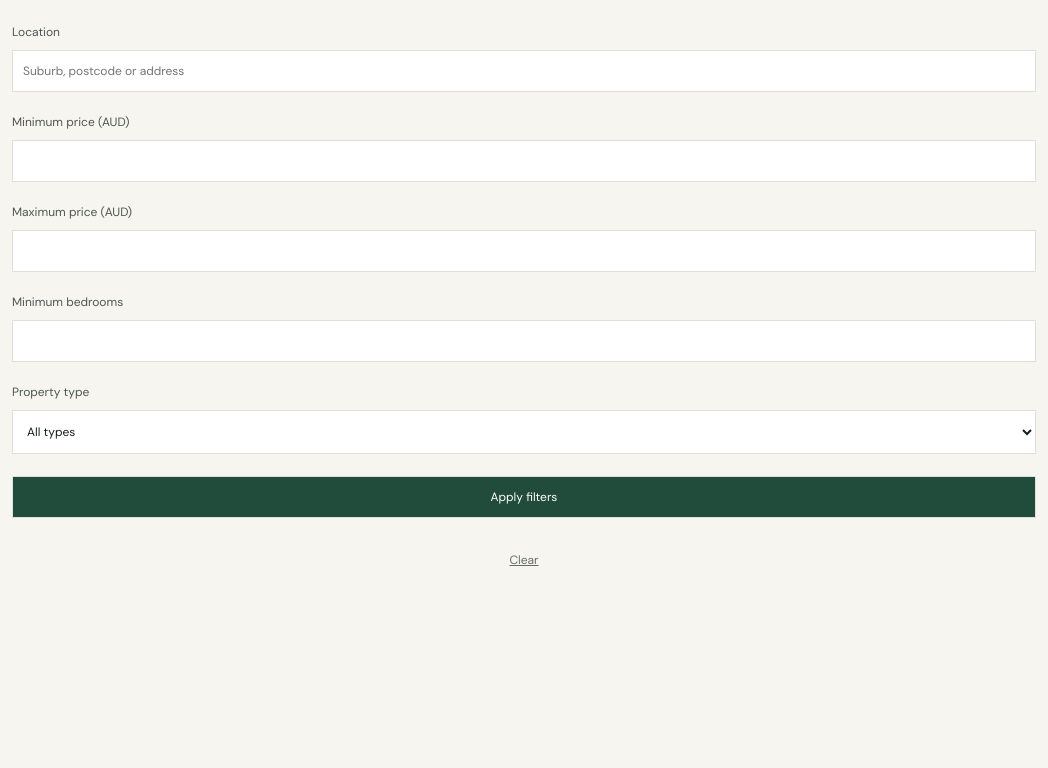
Test: applies inclusive inputs and clears them explicitly
In the field labelled "Location": (524, 71) [12, 50, 1036, 92], type "Richmond"
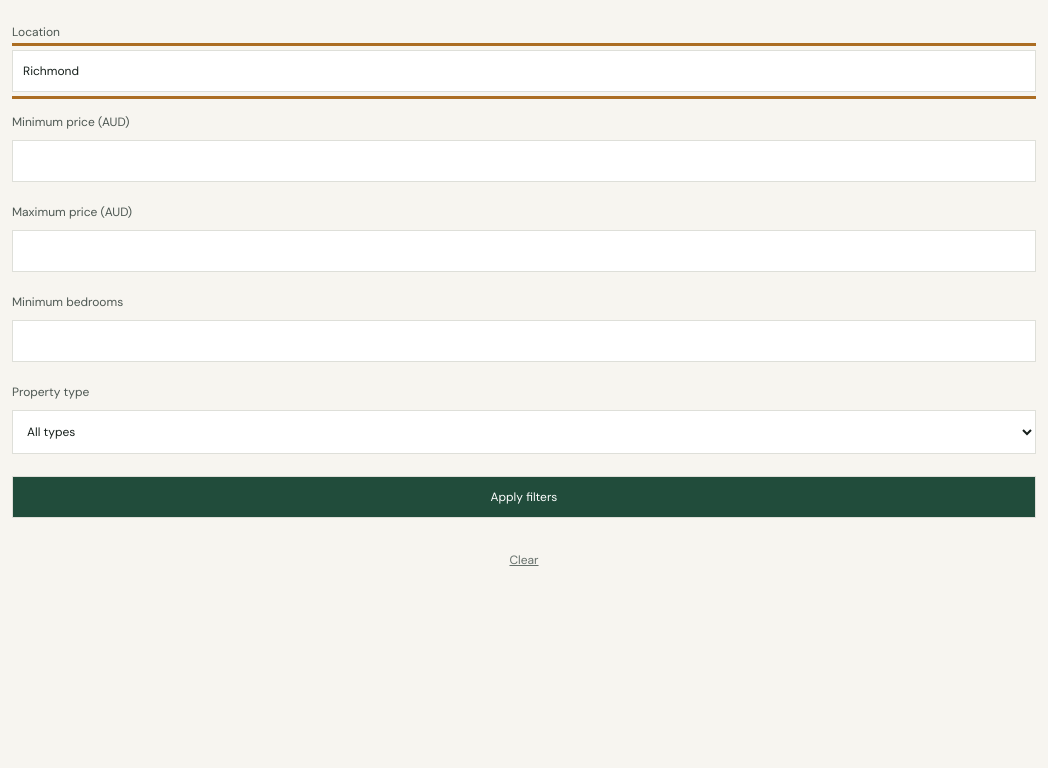
In the number field labelled "Minimum price (AUD)": (524, 161) [12, 140, 1036, 182], type "950000"
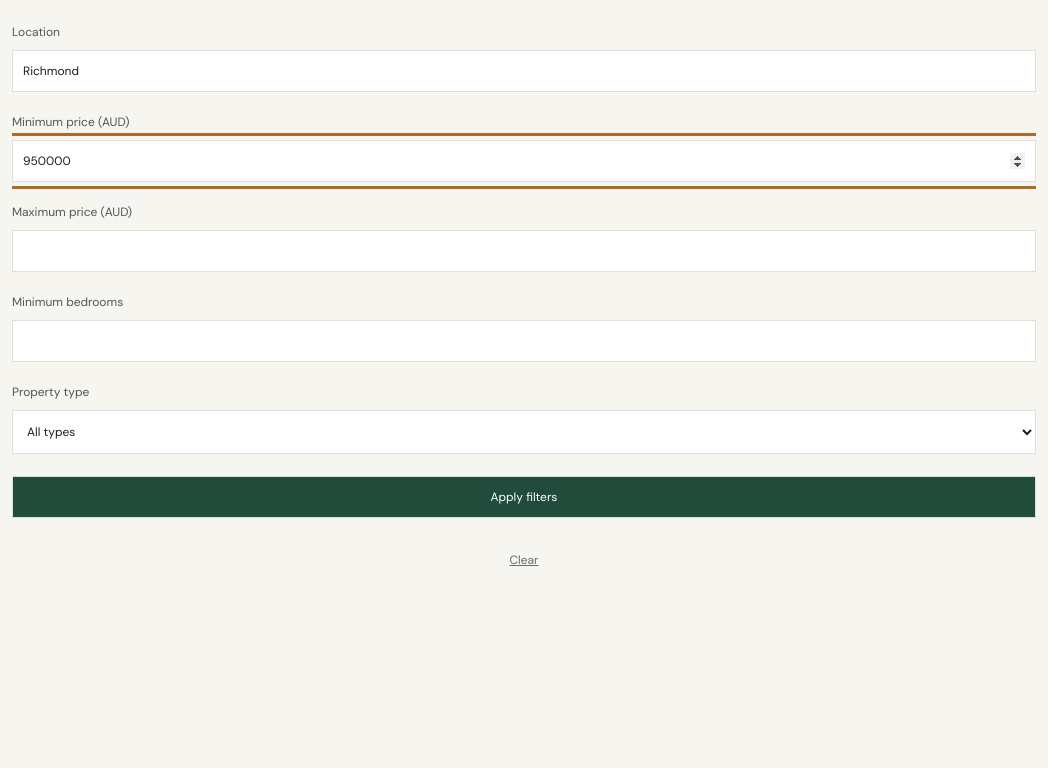
Select "house" in the dropdown labelled "Property type": (524, 432) [12, 410, 1036, 454]
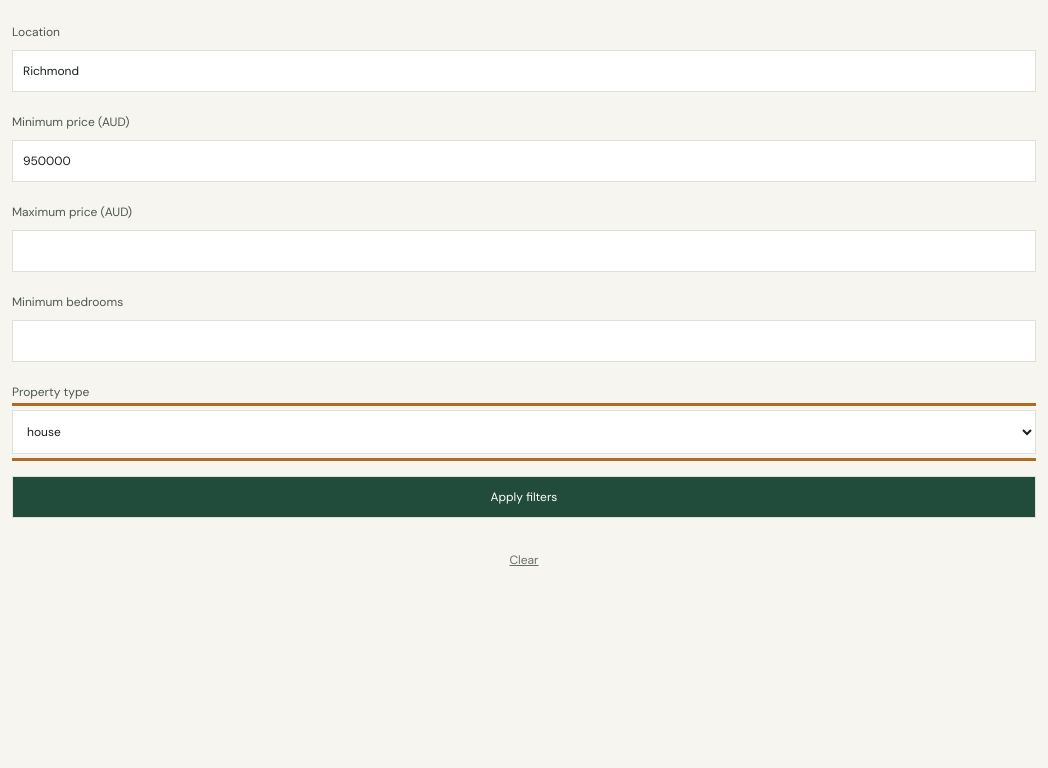
Click the button "Apply filters": (524, 497) [12, 476, 1036, 518]
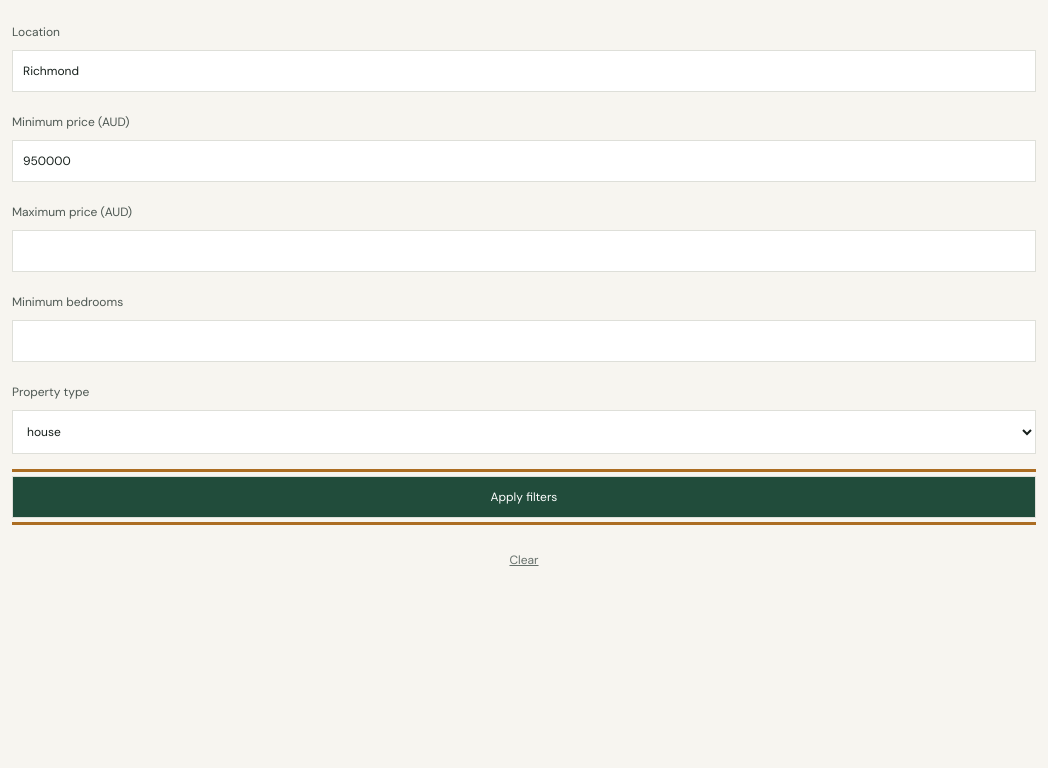
Click the button "Clear": (524, 560) [12, 540, 1036, 580]
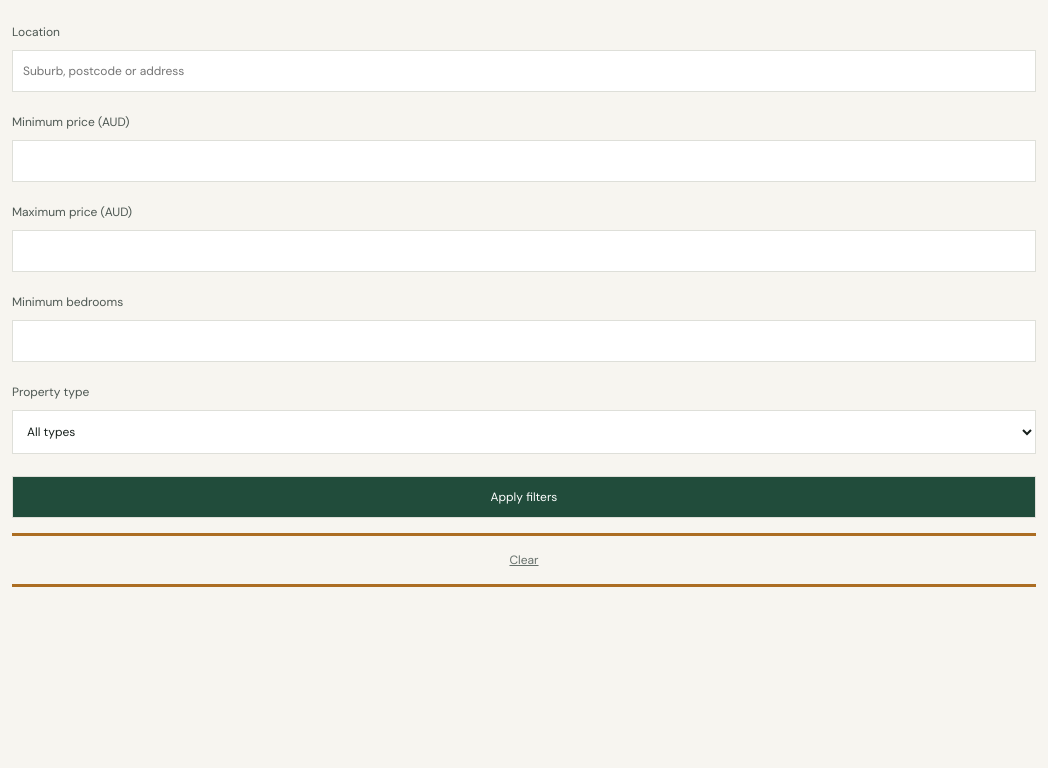
Expected: the field labelled "Location" is empty, [12, 50, 1036, 92]
